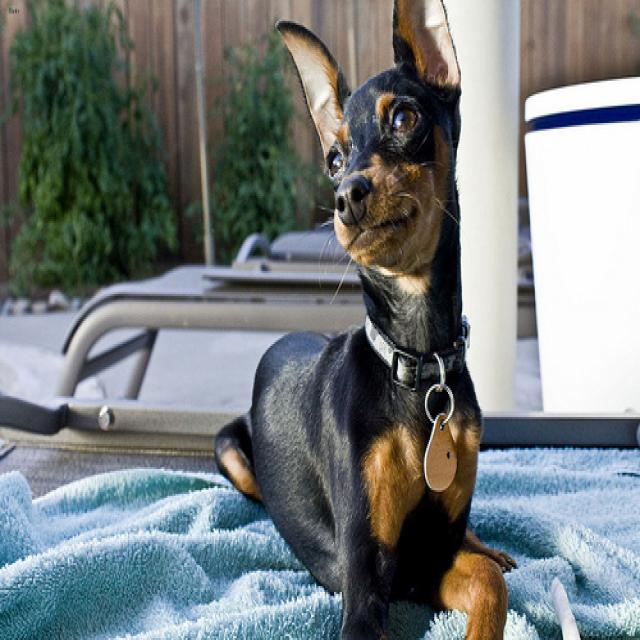dog-miniature_pinscher: (206, 2, 521, 636)
